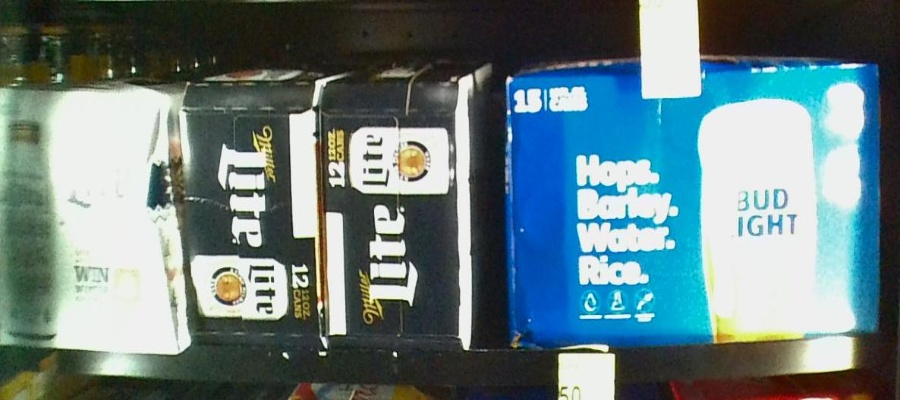bottle: (506, 70, 882, 337), (1, 89, 190, 357), (323, 83, 477, 345), (187, 85, 326, 349)
